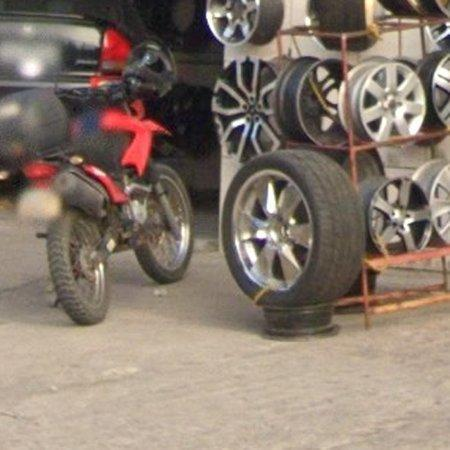motorcycles: (20, 41, 193, 324)
